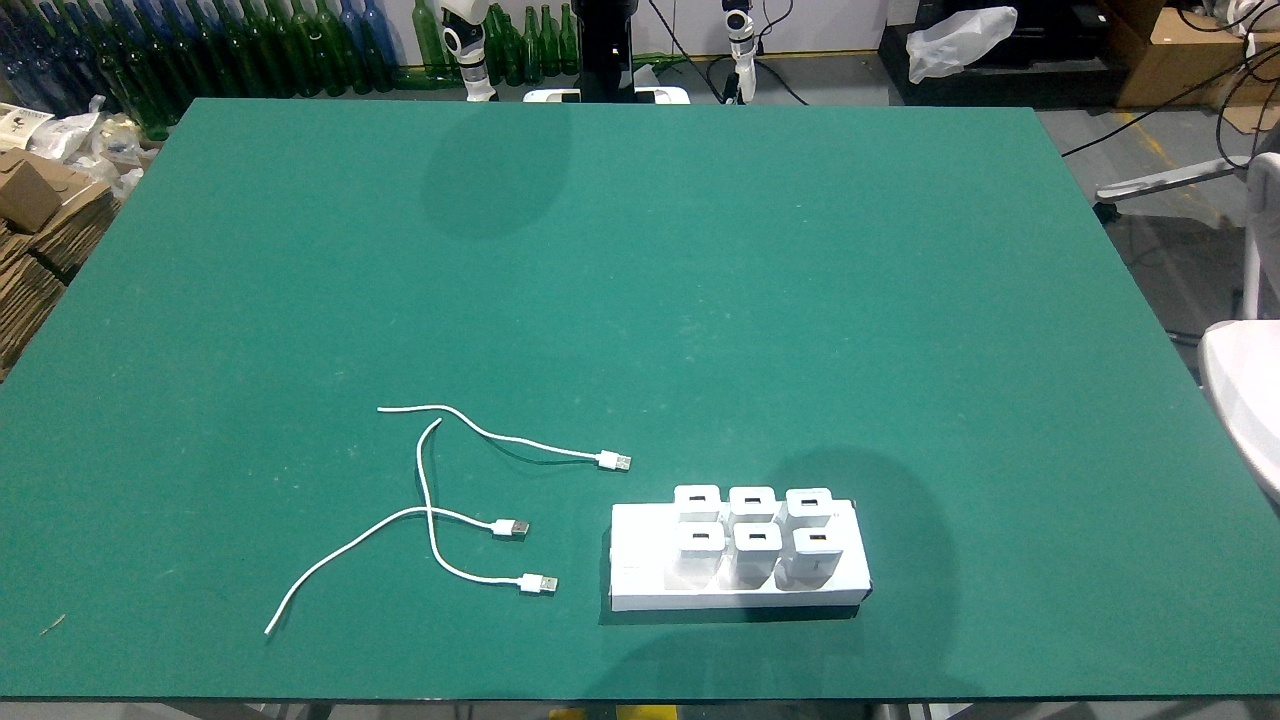usb_a_plug: (499, 570, 561, 595), (585, 446, 633, 474), (480, 518, 530, 537)
